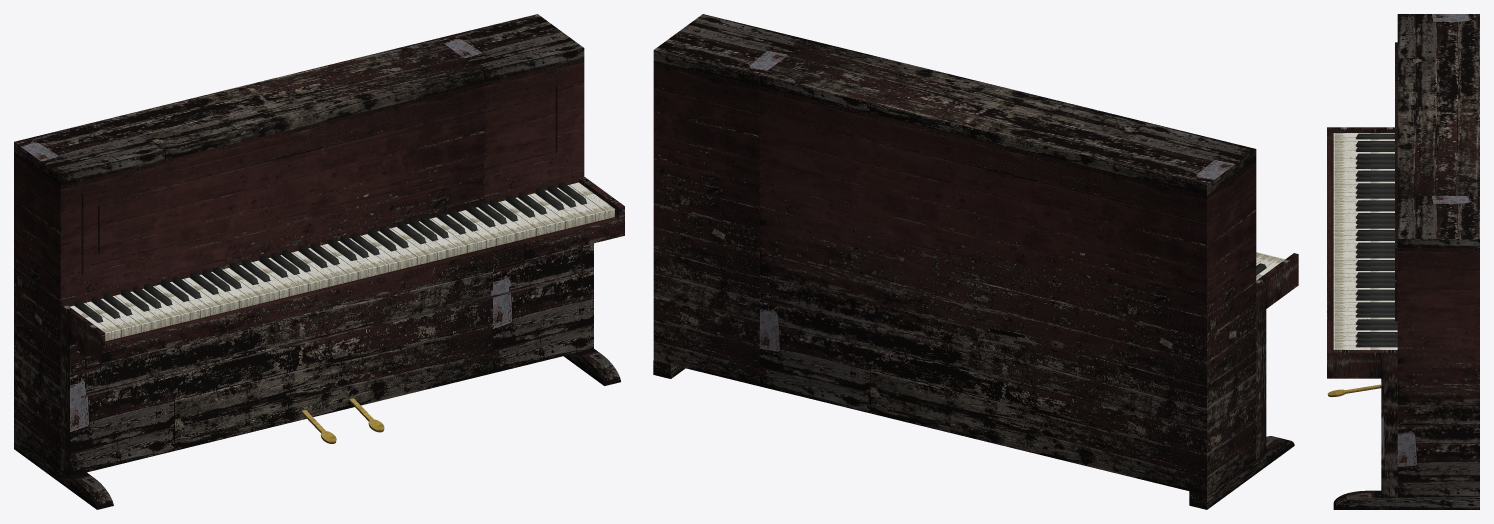
File: Piano.dae
3 renders of one model, left to right at view 1: azimuth 30°, elevation 25°; view 2: azimuth 150°, elevation 25°; view 3: azimuth 270°, elevation 25°, orthographic. The views are drawn at different scales.
Visible parts, largest first — view 1: group_4 (×4), group_6 (×3), group_5, group_3; view 2: group_4 (×2), group_6, group_5; view 3: group_4 (×2), group_0 (×51), group_6, group_3, group_1.
Part boxes in pixels (x1,y1,x2,y2): group_4 (×4): (14,14,584,469); group_6 (×3): (60,177,624,476); group_5: (14,436,113,509); group_3: (563,348,620,385); group_4 (×2): (653,14,1256,495); group_6: (1256,253,1298,459); group_5: (1189,436,1294,509); group_4 (×2): (1395,14,1479,497); group_0 (×51): (1333,133,1397,349); group_6: (1327,127,1397,497); group_3: (1333,490,1479,509); group_1: (1327,384,1381,396).
Size of the model in its own units: 146 by 41.93 by 81.98.
